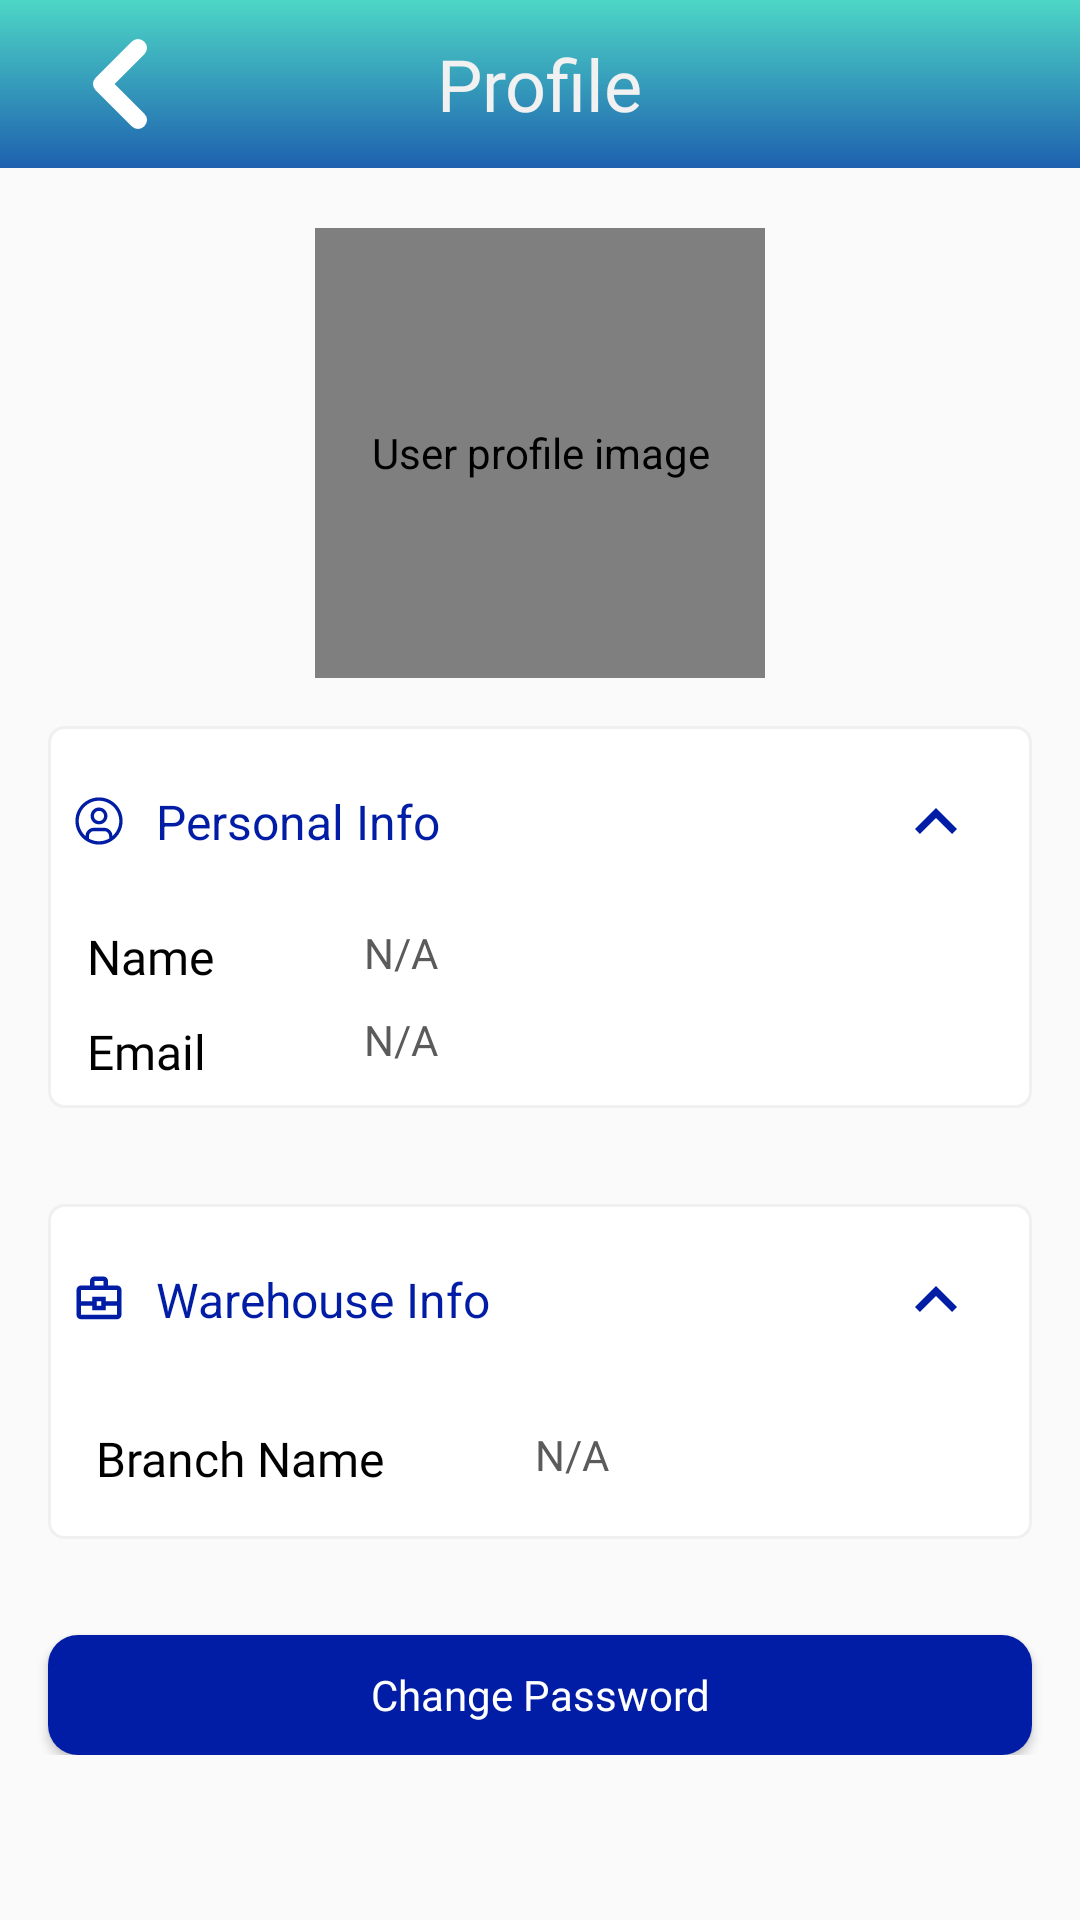

Point at icon controls on the screen. Image size 1080w x 1920h, points as [x,y].
Back: [120,84]
Expand or collapse: [936,821], [936,1299]
